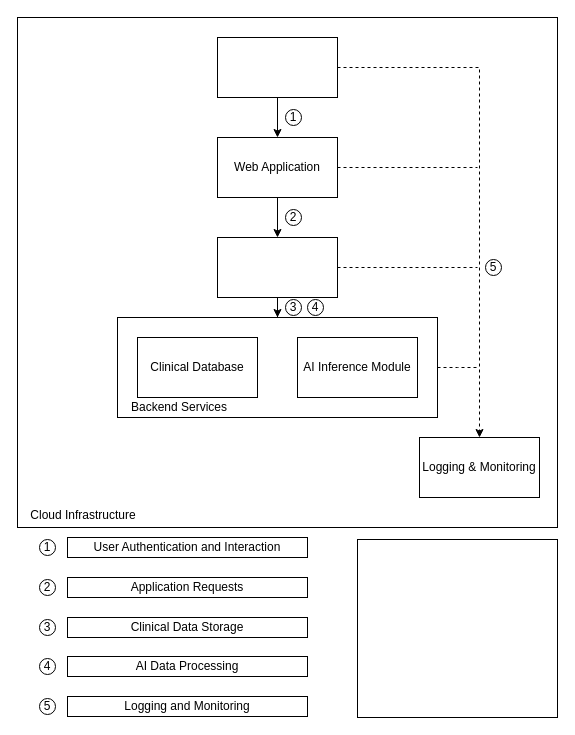
This 575x735 diagram has some shape labels left out. Here are the shapes that lost their labels. From the top down, the centre of each, then its label:
At point (277, 67): "Users".
At point (277, 267): "Backend Application Server".
At point (457, 628): "The data flow includes both request and response exchanges between components.".
